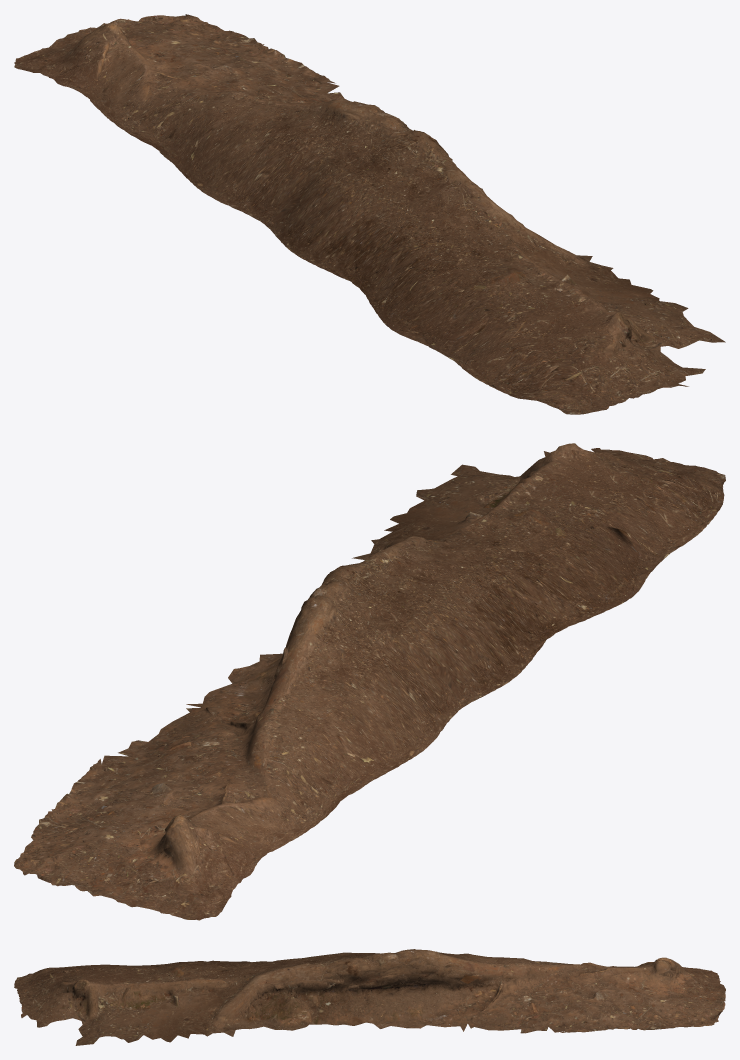
File: single_root_1k.fbx
3 renders of one model, top to bottom at view 1: azimuth 30°, elevation 25°; view 2: azimuth 150°, elevation 25°; view 3: azimuth 270°, elevation 25°, orthographic. The views are drawn at different scales.
Parts seen in each view (by area): view 1: single_root_LOD0; view 2: single_root_LOD0; view 3: single_root_LOD0.
Boxes of the visible parts, bbox=[...] form: single_root_LOD0: bbox=[14, 14, 725, 414]; single_root_LOD0: bbox=[14, 443, 725, 920]; single_root_LOD0: bbox=[14, 949, 725, 1045].
Size of what is drawn, in the model's own units: 49.69 by 17.73 by 184.
